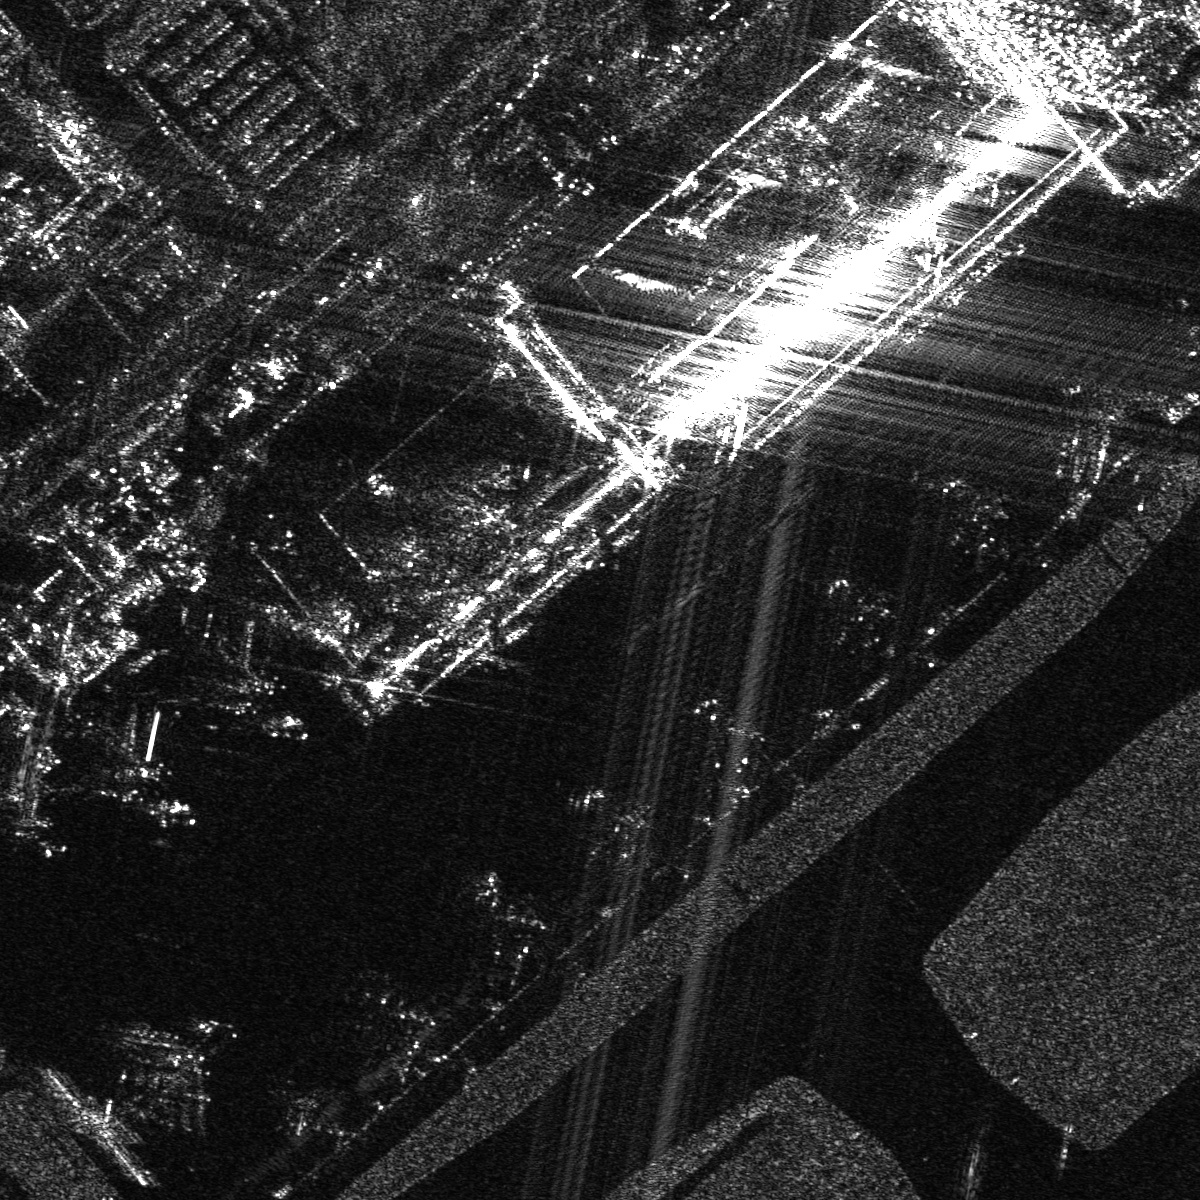Boeing737: (1159, 291, 1199, 364)
Boeing787: (468, 860, 562, 964), (78, 701, 170, 797), (192, 615, 286, 695)
other: (113, 1014, 238, 1136), (338, 957, 444, 1070), (684, 679, 781, 787), (565, 779, 665, 874), (813, 563, 907, 662), (932, 473, 1024, 565)
